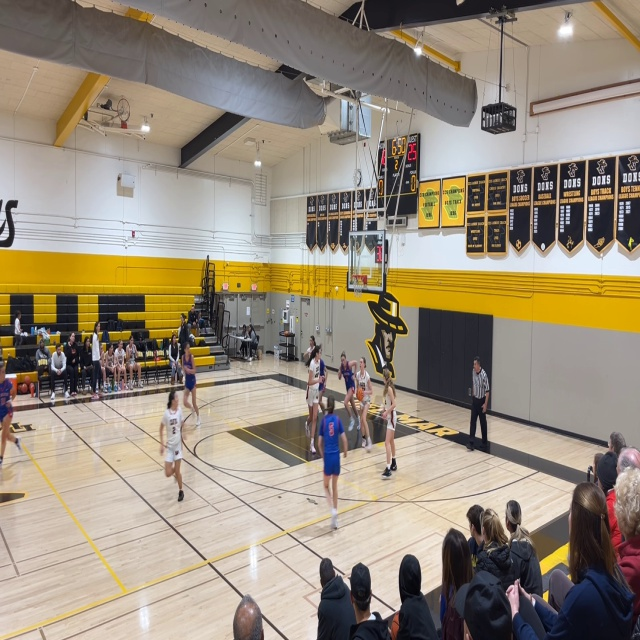Basketball: (356, 389, 364, 400)
